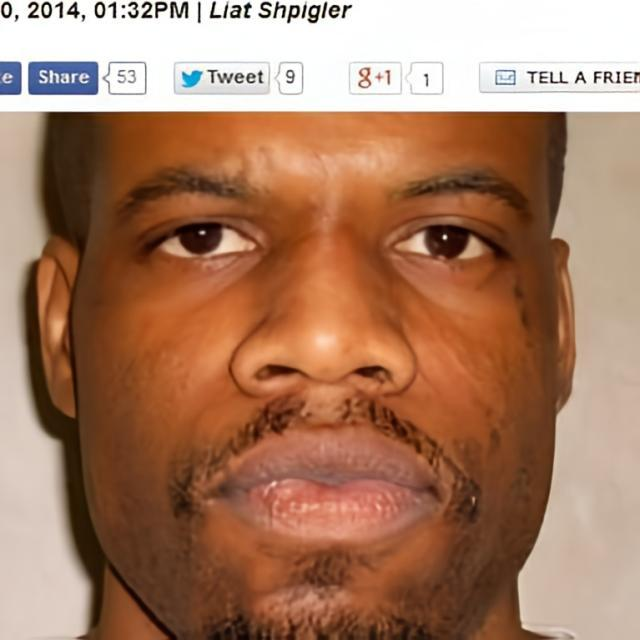anger: (75, 117, 549, 640)
